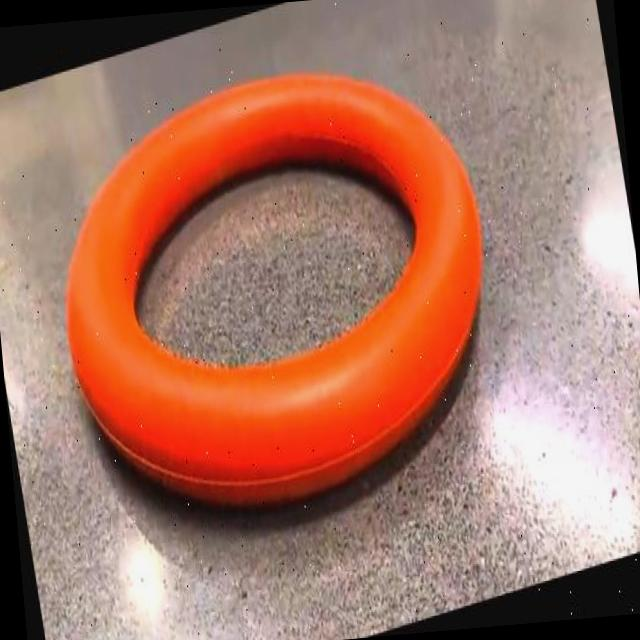note: (67, 74, 480, 503)
